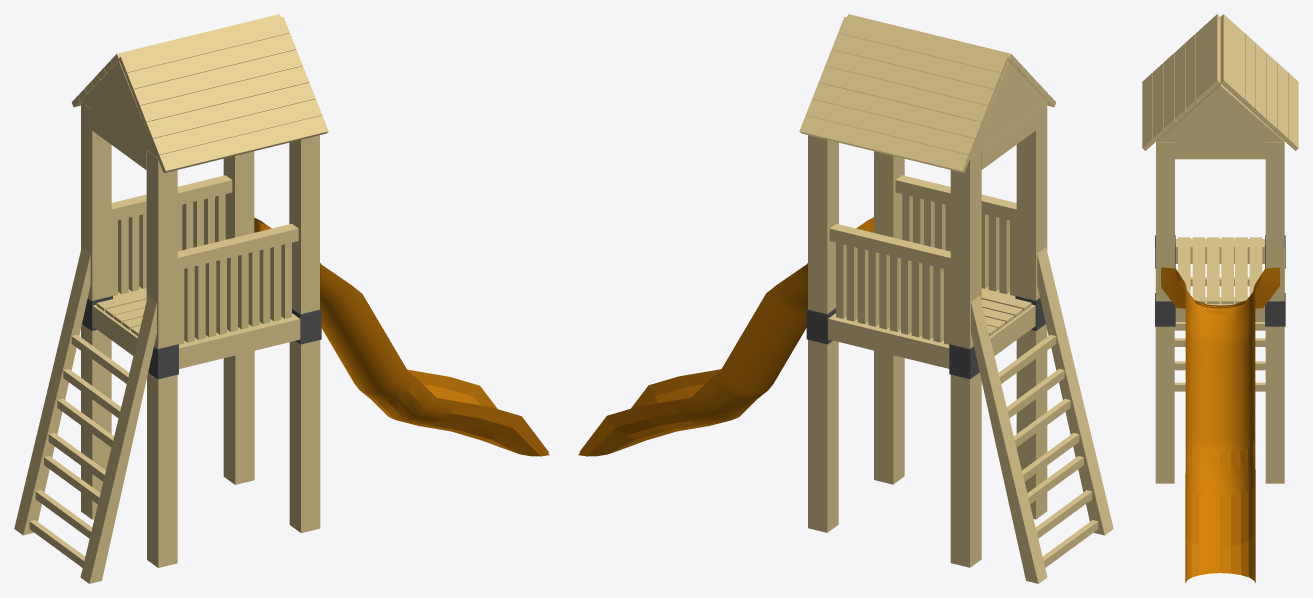
The model's file is SlideEdit.fbx.
3 renders of one model, left to right at view 1: azimuth 30°, elevation 25°; view 2: azimuth 150°, elevation 25°; view 3: azimuth 270°, elevation 25°, orthographic. The views are drawn at different scales.
Parts seen in each view (by area): view 1: Slide, pCube78, pCube77, pCube80, pCube47, pCube83, pCube44, pCube46, pCube64 (×2), pCube79, pCube76, pCube40 (+32 smaller); view 2: Slide, pCube76, pCube79, pCube83, pCube46, pCube80, pCube47, pCube45, pCube64 (×2), pCube78, pCube77, pCube41 (+32 smaller); view 3: SlideReversed, pCube42, pCube78, pCube79, pCube45, pCube44, pCube48, Slide, pCube37, pCube36, pCube62, pCube32 (+22 smaller).
Part boxes in pixels (bbox=[...]): Slide: bbox=[254, 218, 549, 456]; pCube78: bbox=[289, 340, 320, 533]; pCube77: bbox=[147, 372, 177, 567]; pCube80: bbox=[80, 296, 156, 583]; pCube47: bbox=[146, 150, 177, 348]; pCube83: bbox=[14, 247, 90, 535]; pCube44: bbox=[289, 135, 319, 313]; pCube46: bbox=[81, 102, 111, 300]; pCube64 (×2): bbox=[111, 175, 298, 270]; pCube79: bbox=[223, 351, 254, 484]; pCube76: bbox=[81, 324, 111, 519]; pCube40: bbox=[157, 115, 328, 172]; Slide: bbox=[578, 218, 873, 456]; pCube76: bbox=[950, 372, 981, 567]; pCube79: bbox=[808, 340, 838, 532]; pCube83: bbox=[971, 296, 1047, 583]; pCube46: bbox=[950, 150, 981, 348]; pCube80: bbox=[1037, 247, 1113, 535]; pCube47: bbox=[1016, 102, 1047, 300]; pCube45: bbox=[808, 135, 838, 313]; pCube64 (×2): bbox=[829, 175, 1016, 270]; pCube78: bbox=[874, 350, 904, 484]; pCube77: bbox=[1016, 324, 1047, 519]; pCube41: bbox=[799, 115, 970, 172]; SlideReversed: bbox=[1161, 269, 1278, 580]; pCube42: bbox=[1156, 83, 1284, 142]; pCube78: bbox=[1155, 326, 1174, 483]; pCube79: bbox=[1265, 326, 1284, 483]; pCube45: bbox=[1265, 142, 1284, 301]; pCube44: bbox=[1156, 142, 1174, 301]; pCube48: bbox=[1174, 142, 1265, 159]; Slide: bbox=[1161, 267, 1280, 583]; pCube37: bbox=[1220, 14, 1234, 92]; pCube36: bbox=[1206, 14, 1220, 92]; pCube62: bbox=[1192, 237, 1205, 303]; pCube32: bbox=[1163, 53, 1177, 131].
Bounding box in the file's own units: 530 × 515 × 181.
